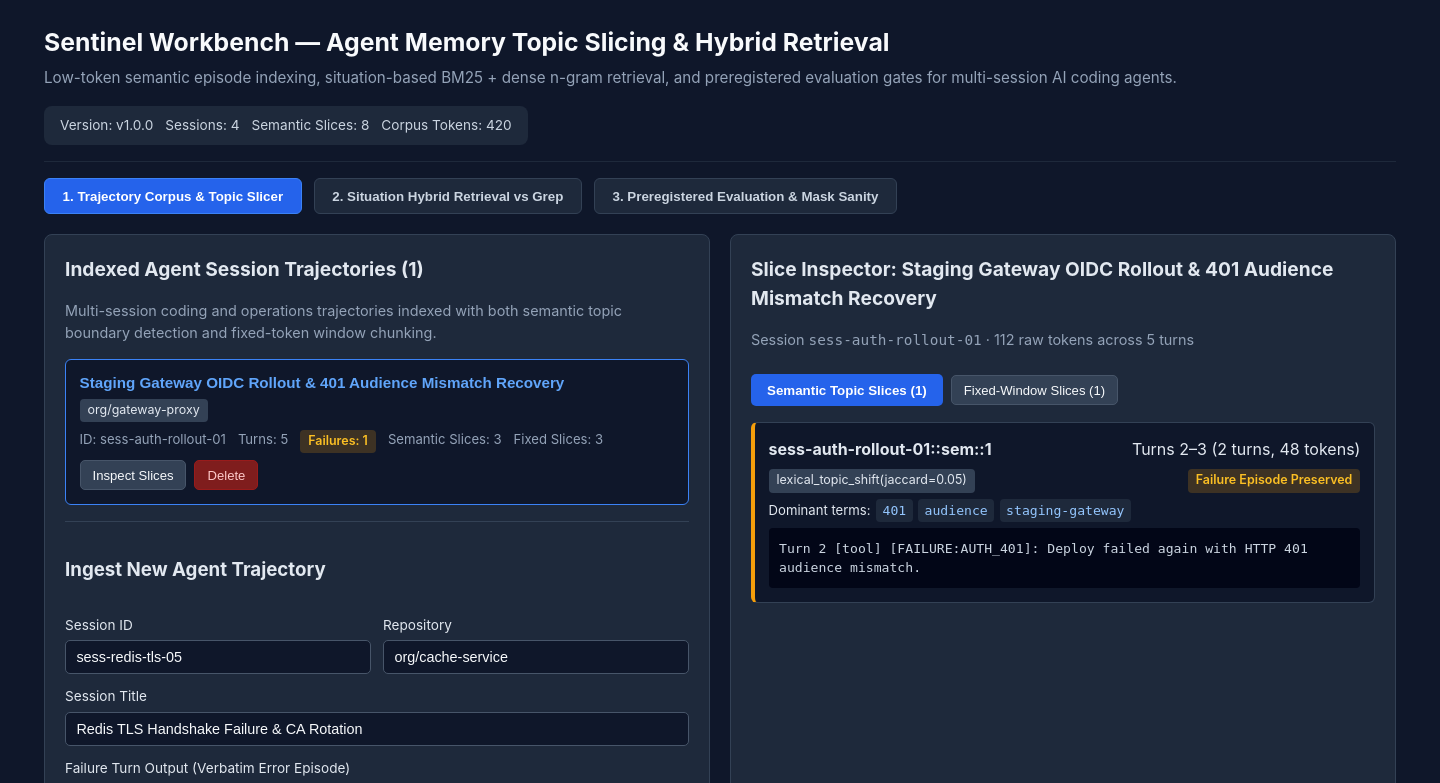
Test: Sentinel Workbench UI › renders indexed sessions and inspects semantic vs fixed slices
Expected: the text "sess-auth-rollout-01::sem::1" is shown, [769, 437, 992, 461]
Click the button "Fixed-Window Slices (1)": (1034, 390) [951, 375, 1118, 405]
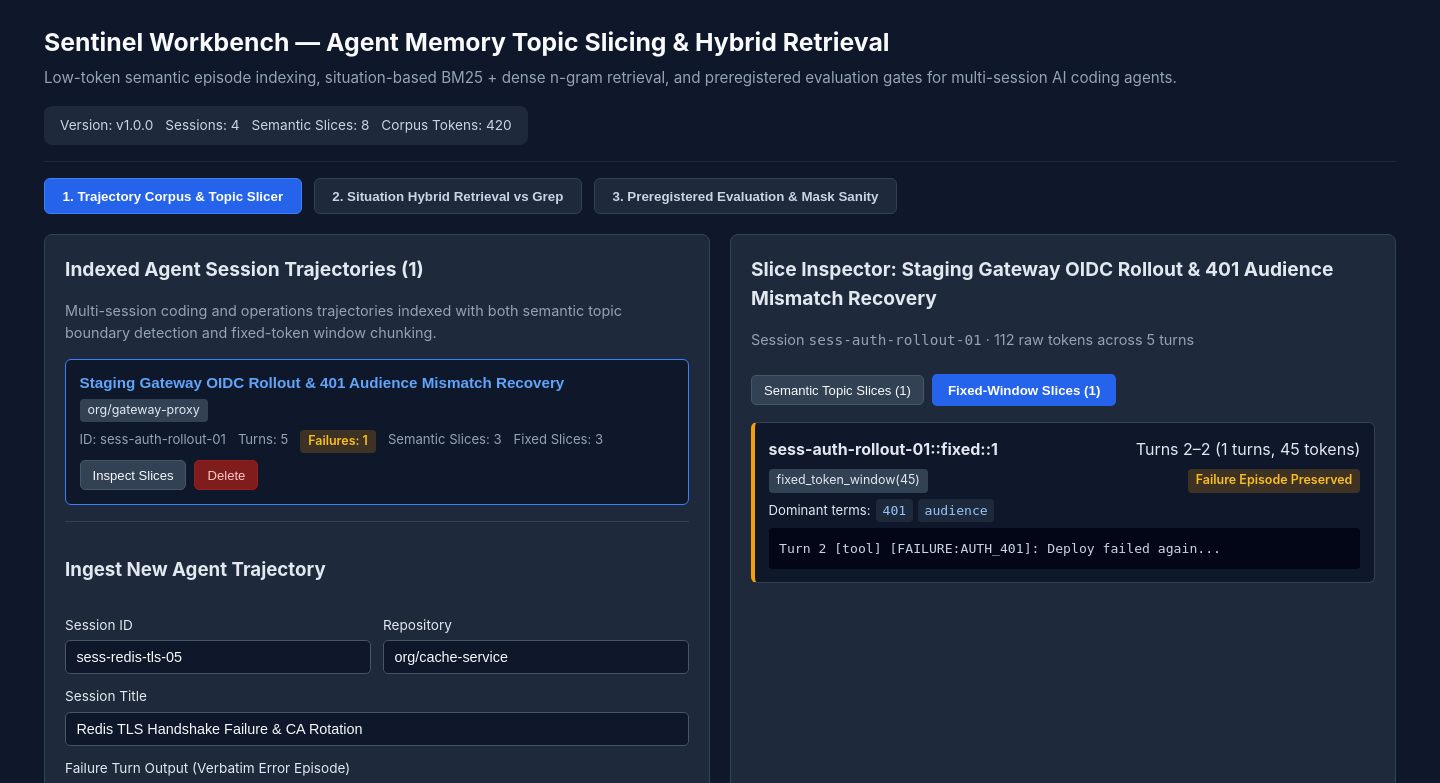
Expected: the text "sess-auth-rollout-01::fixed::1" is shown, [769, 437, 998, 461]
